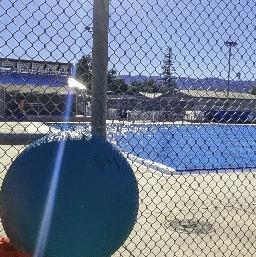algae: (0, 127, 143, 257)
